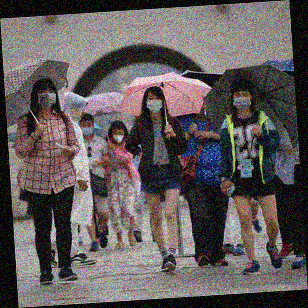with_mask: (232, 90, 253, 111), (37, 88, 57, 109), (145, 93, 164, 115), (79, 121, 93, 136), (112, 130, 125, 144)
